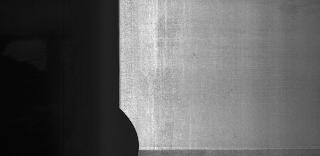welding line: (165, 146, 319, 154)
